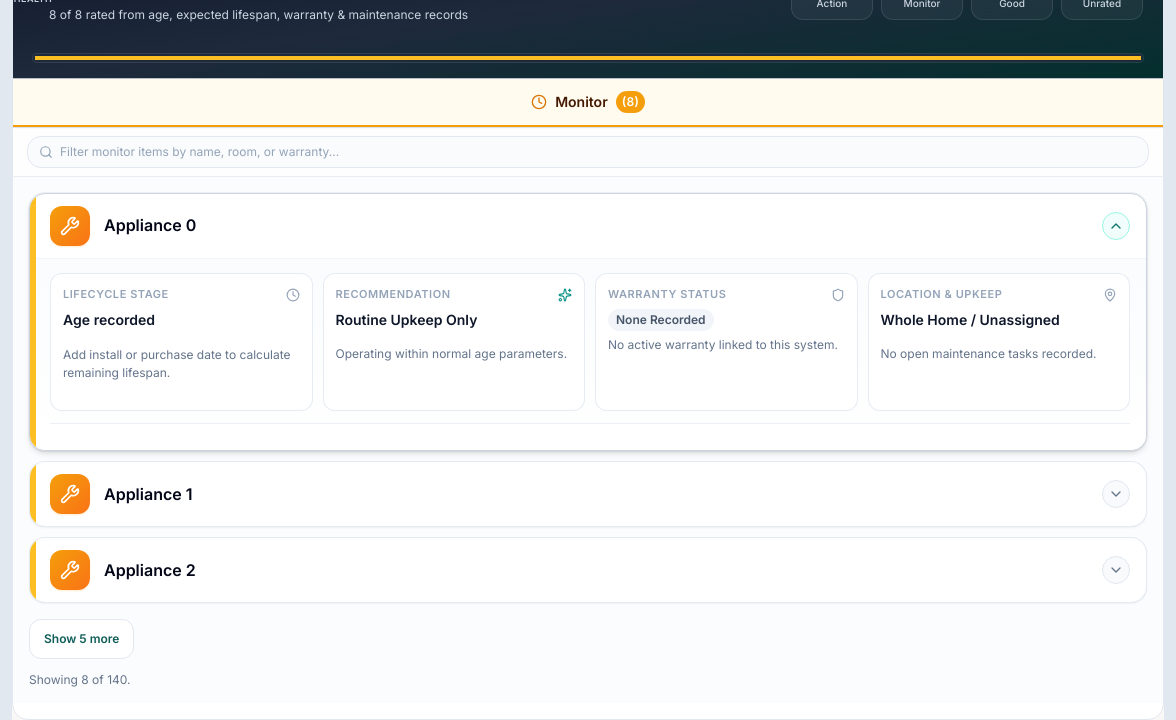
Scenario: status accordion › delivers rows beyond the disclosure boundary behind a local Show more, and states a larger source honestly
(page scrolled)
Check: the number of list items is 3, box 29,193 -> 1147,452; 29,462 -> 1147,528; 29,538 -> 1147,604
Check: the tab "Monitor (8)" is shown, box 13,79 -> 1163,127
Click the button "Show 5 more" at (82, 640), box 29,620 -> 134,660
(page scrolled)
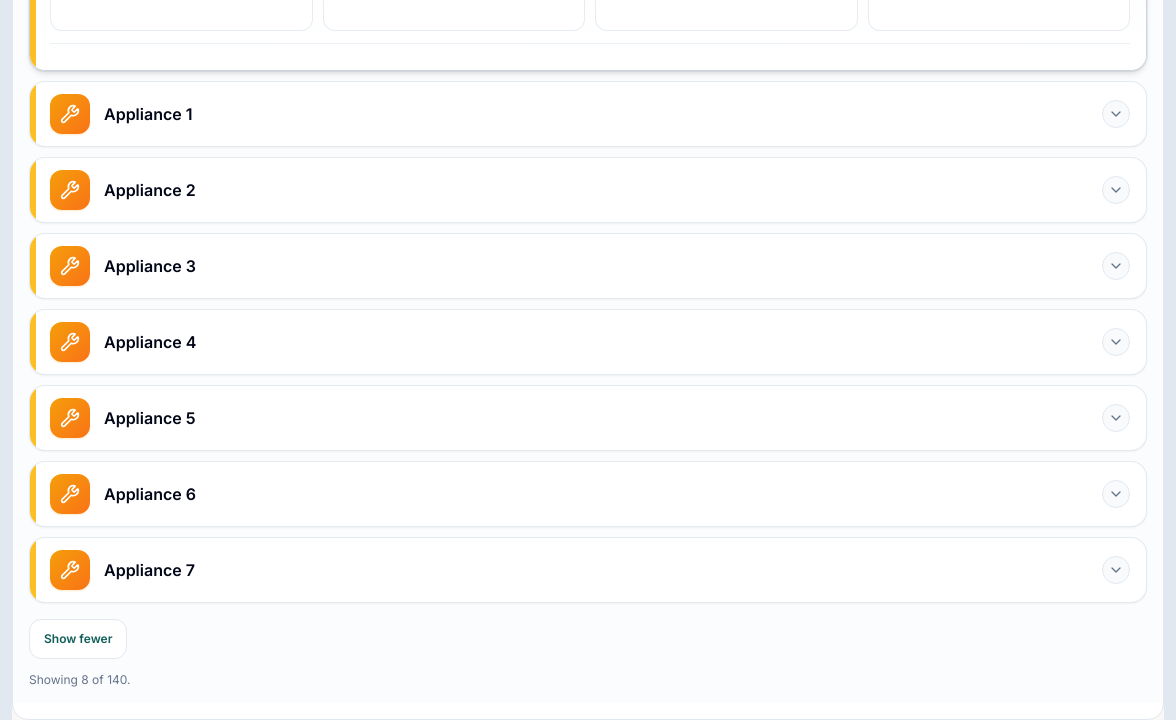
Check: the number of list items is 8
Click the button "Show fewer" at (78, 640), box 29,620 -> 127,660
(page scrolled)
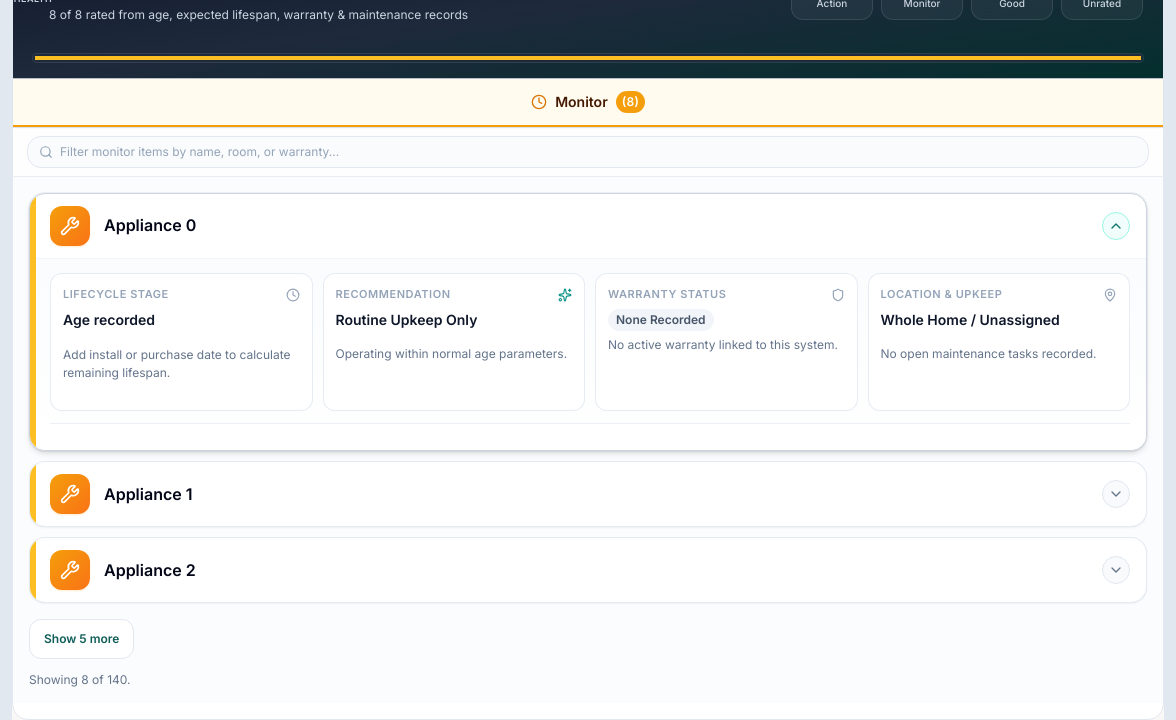
Check: the number of list items is 3, box 29,193 -> 1147,452; 29,462 -> 1147,528; 29,538 -> 1147,604
